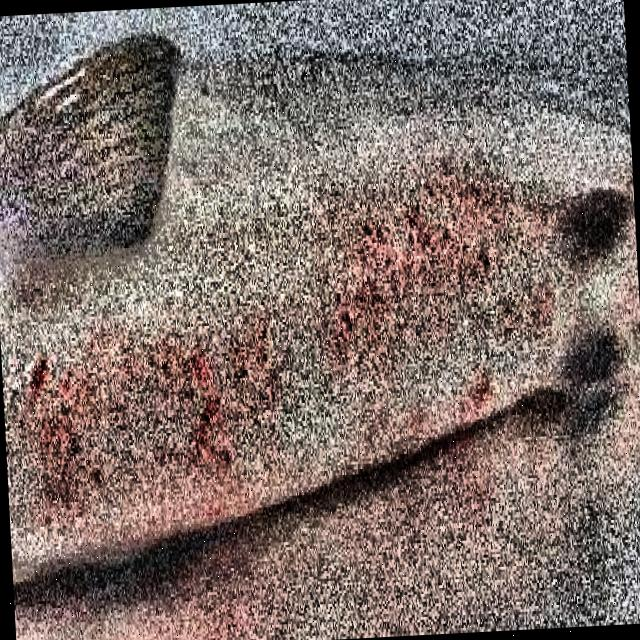mild_red: (13, 170, 567, 543)
